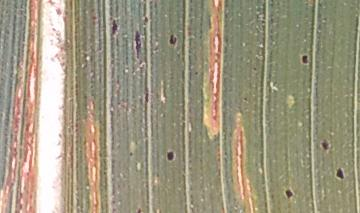tarspot: (132, 29, 144, 61), (317, 137, 332, 154), (334, 166, 347, 183), (167, 33, 180, 49), (164, 150, 177, 164), (284, 186, 296, 201), (110, 18, 119, 37), (301, 51, 310, 67), (134, 206, 144, 213)
